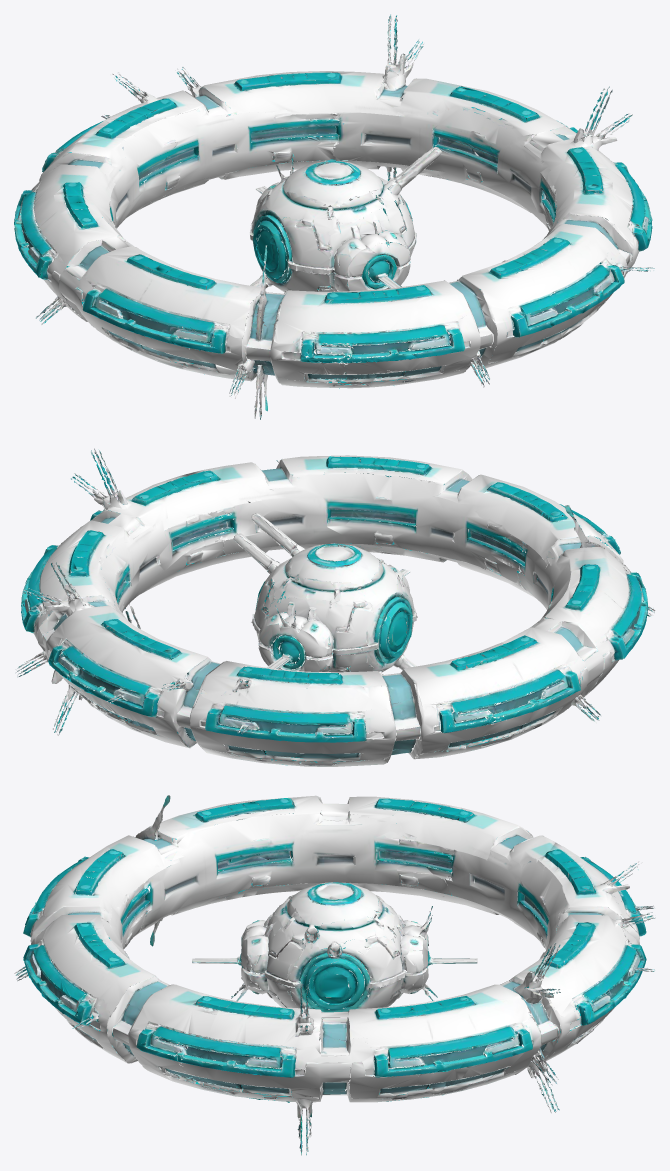
Rendered from station.glb.
3 renders of one model, top to bottom at view 1: azimuth 30°, elevation 25°; view 2: azimuth 150°, elevation 25°; view 3: azimuth 270°, elevation 25°, orthographic. The views are drawn at different scales.
Parts seen in each view (by area): view 1: Model; view 2: Model; view 3: Model.
Part boxes in pixels (left/top/right/bottom): Model: left=14, top=14, right=654, bottom=419; Model: left=15, top=448, right=655, bottom=766; Model: left=14, top=795, right=655, bottom=1155.
Bounding box in the file's own units: 0.9975 × 0.3005 × 0.9989.
1 material, 1 textured.
